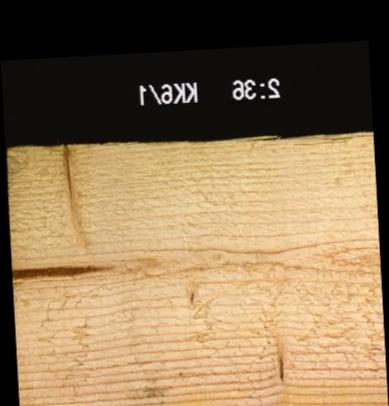small_knot: (180, 285, 204, 311)
split: (287, 132, 372, 147)
